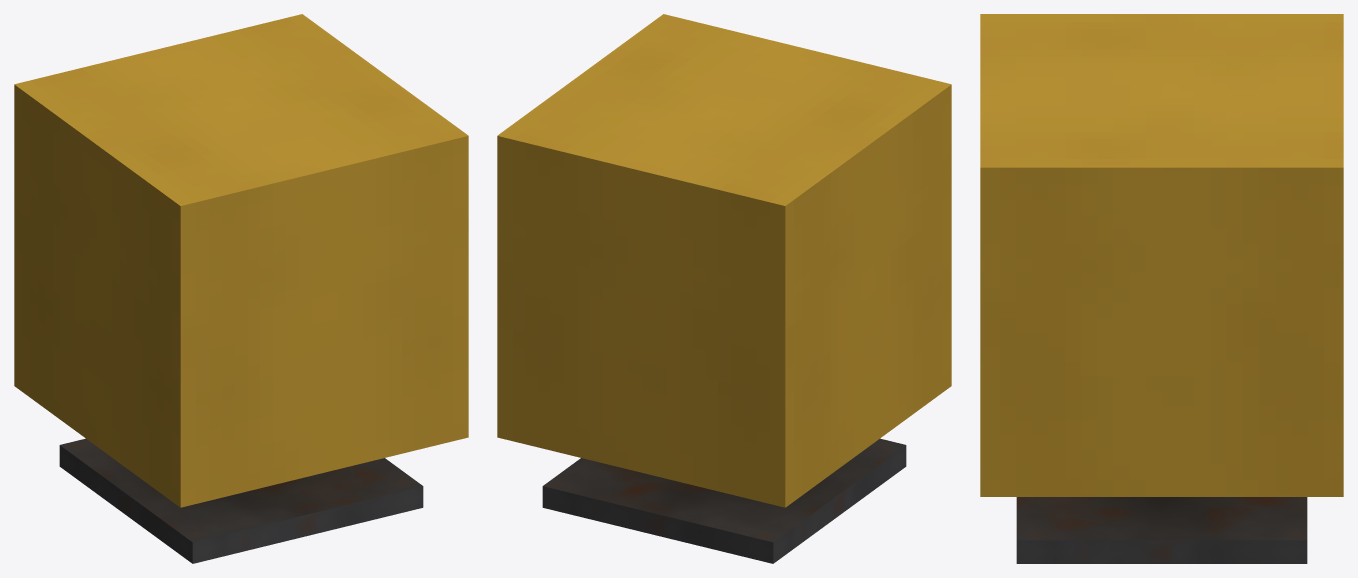
Rendered from demo_cube_gold.glb.
The picture shows the model from 3 angles, left to right: view 1: azimuth 30°, elevation 25°; view 2: azimuth 150°, elevation 25°; view 3: azimuth 270°, elevation 25°; orthographic projection. The views are drawn at different scales.
Visible parts, largest first — view 1: demo_cube_gold_cube, demo_cube_gold; view 2: demo_cube_gold_cube, demo_cube_gold; view 3: demo_cube_gold_cube, demo_cube_gold.
Part boxes in pixels (x1=…): demo_cube_gold_cube: x1=14, y1=14, x2=468, y2=507; demo_cube_gold: x1=59, y1=438, x2=423, y2=563; demo_cube_gold_cube: x1=497, y1=14, x2=951, y2=507; demo_cube_gold: x1=542, y1=438, x2=906, y2=563; demo_cube_gold_cube: x1=980, y1=14, x2=1343, y2=496; demo_cube_gold: x1=1016, y1=497, x2=1307, y2=563.
Size of the model in its own units: 1.4 by 1.75 by 1.4.
Materials: 2 (2 with a texture image).
